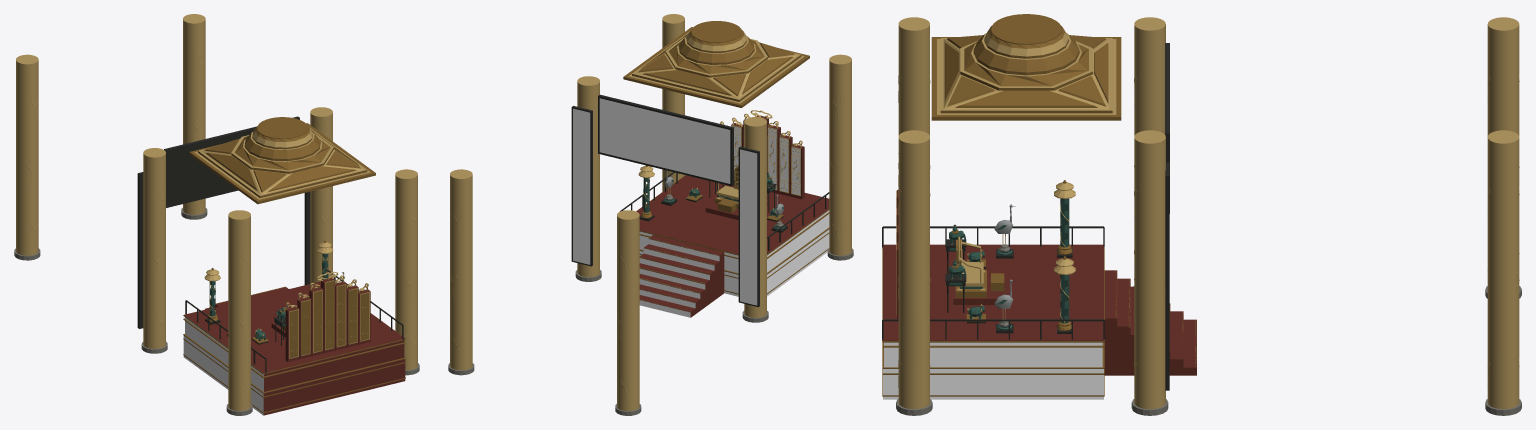
File: taihe-furnishing-surfaces-a4a0b82f9f76.glb
3 renders of one model, left to right at view 1: azimuth 30°, elevation 25°; view 2: azimuth 150°, elevation 25°; view 3: azimuth 270°, elevation 25°, orthographic. The views are drawn at different scales.
Visible parts, largest first — view 1: merged_taihe_gold, merged_taihe_dark_gold, merged_taihe_lacquer, merged_taihe_dark_wood, merged_taihe_glyph_atlas, merged_taihe_stone, throne_blue_waist; view 2: merged_taihe_gold, merged_taihe_glyph_atlas, merged_taihe_lacquer, merged_taihe_dark_gold, merged_taihe_dark_wood, merged_taihe_stone, throne_blue_waist; view 3: merged_taihe_gold, merged_taihe_lacquer, merged_taihe_dark_gold, merged_taihe_glyph_atlas, merged_taihe_dark_wood, throne_blue_waist, merged_taihe_stone.
Boxes of the visible parts, x1=… form: merged_taihe_gold: x1=16, y1=14, x2=417, y2=410; merged_taihe_dark_gold: x1=183, y1=117, x2=405, y2=413; merged_taihe_lacquer: x1=184, y1=272, x2=405, y2=415; merged_taihe_dark_wood: x1=137, y1=116, x2=403, y2=373; merged_taihe_glyph_atlas: x1=183, y1=317, x2=263, y2=415; merged_taihe_stone: x1=14, y1=208, x2=419, y2=415; throne_blue_waist: x1=209, y1=254, x2=328, y2=340; merged_taihe_gold: x1=450, y1=14, x2=851, y2=410; merged_taihe_glyph_atlas: x1=573, y1=98, x2=829, y2=317; merged_taihe_lacquer: x1=636, y1=115, x2=829, y2=317; merged_taihe_dark_gold: x1=623, y1=21, x2=829, y2=312; merged_taihe_dark_wood: x1=571, y1=94, x2=829, y2=307; merged_taihe_stone: x1=448, y1=194, x2=853, y2=415; throne_blue_waist: x1=643, y1=173, x2=785, y2=229; merged_taihe_gold: x1=896, y1=17, x2=1519, y2=409; merged_taihe_lacquer: x1=883, y1=190, x2=1196, y2=375; merged_taihe_dark_gold: x1=882, y1=14, x2=1196, y2=396; merged_taihe_glyph_atlas: x1=883, y1=342, x2=1103, y2=399; merged_taihe_dark_wood: x1=882, y1=43, x2=1169, y2=390; throne_blue_waist: x1=949, y1=198, x2=1069, y2=330; merged_taihe_stone: x1=896, y1=244, x2=1521, y2=415.
Bounding box in the file's own units: 9.63 × 11.27 × 20.25.
